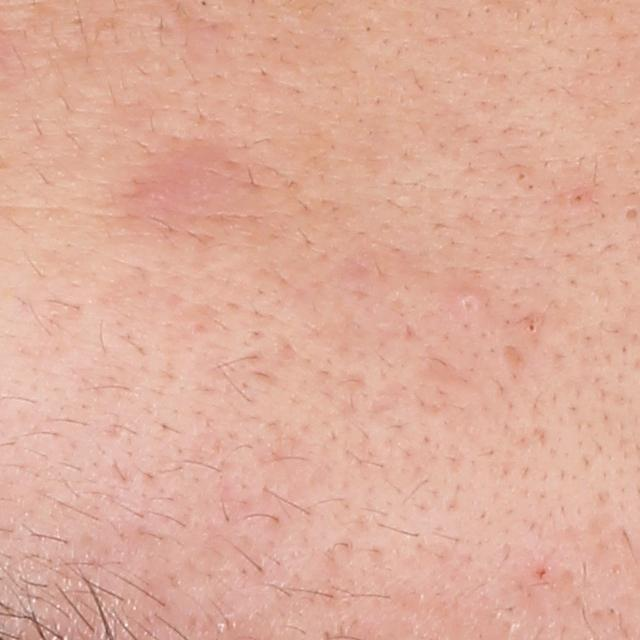comedo: (527, 322, 538, 334)
